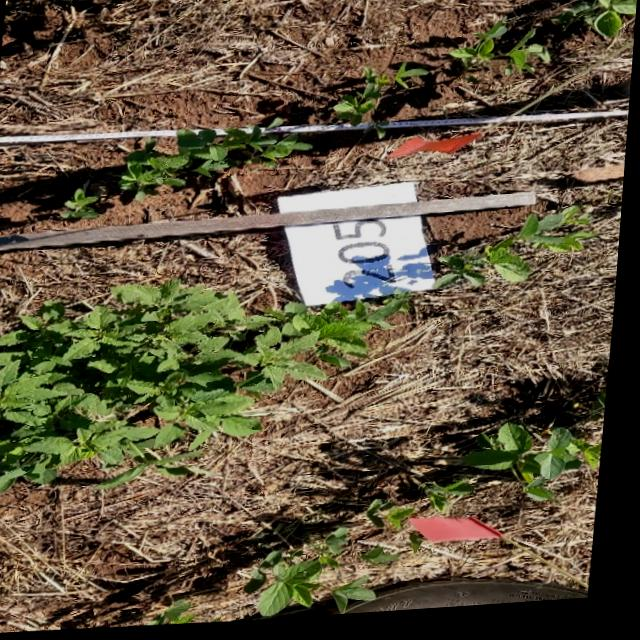caruru_weed: (0, 283, 409, 493)
soy_plant: (121, 66, 631, 199), (439, 212, 599, 293), (472, 429, 608, 506), (253, 531, 357, 620), (451, 24, 553, 80), (555, 0, 638, 45), (432, 484, 482, 516), (373, 502, 422, 534), (0, 132, 174, 141), (340, 581, 384, 616), (65, 186, 112, 218), (157, 602, 204, 627), (368, 550, 405, 569)
